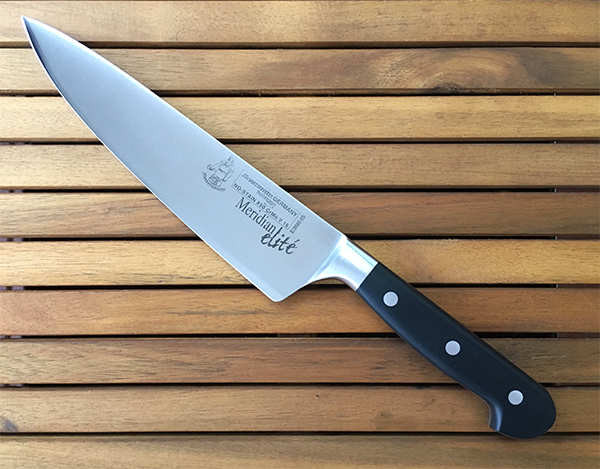knife: (20, 14, 557, 440)
